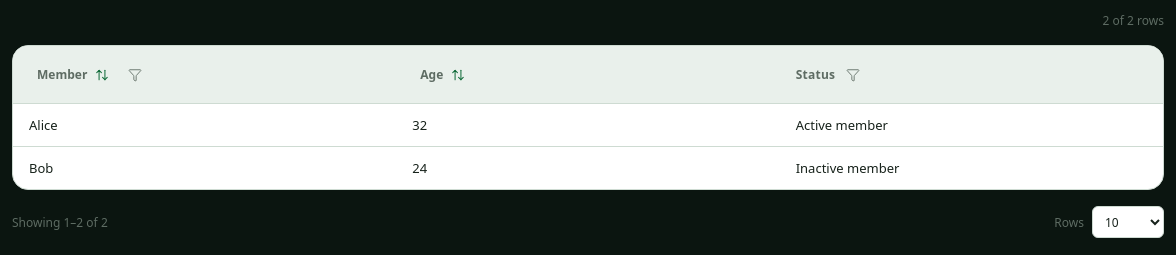
Scenario: DataTable › combines filters from multiple columns
This screenshot has width=1176, height=255.
Click the button named "Open filter for Member": (135, 74) [121,60,149,88]
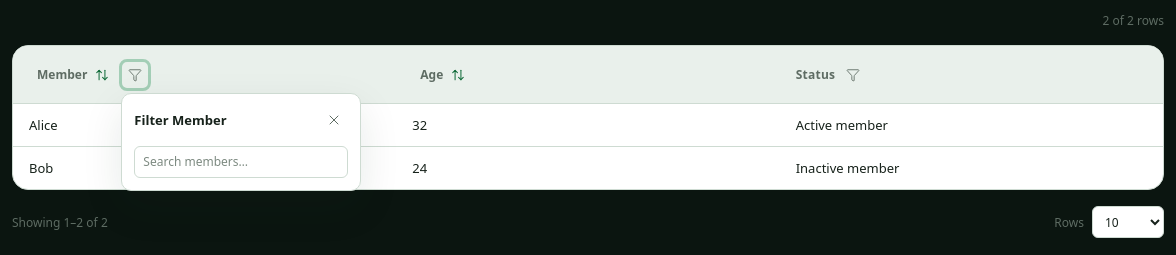
In the search field named "Filter Member": (241, 162) [134,146,348,178], type "bob"
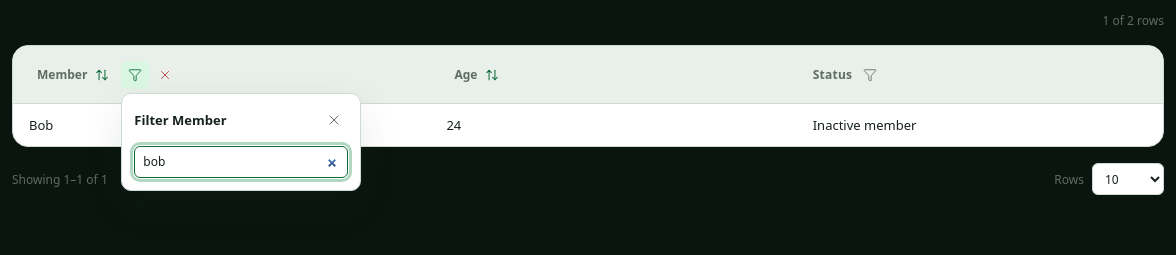
Click the button named "Open filter for Status": (870, 74) [856,60,884,88]
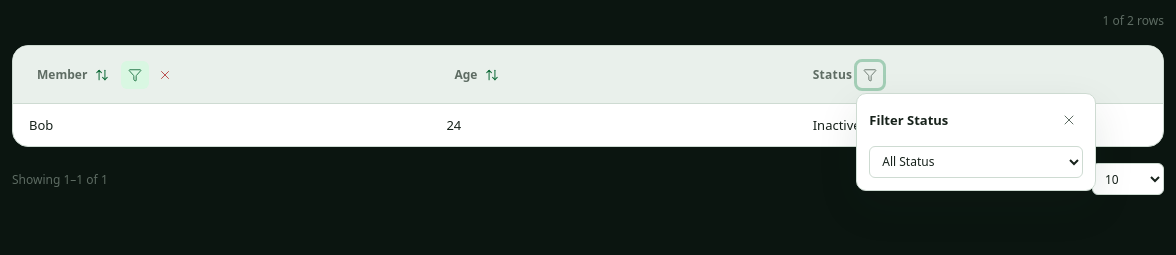
Select "Active" in the dropdown named "Filter Status": (976, 162) [869,146,1083,178]
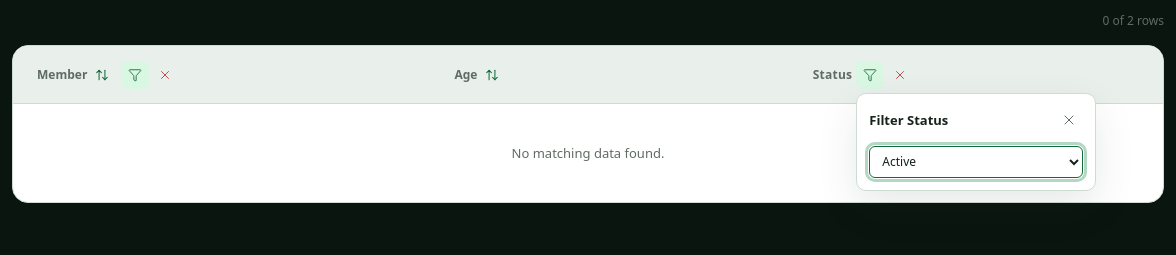
Result: the text "No matching data found." is shown at [13,104,1163,202]
Result: the text "0 of 2 rows" is shown at [1103,12,1164,29]
